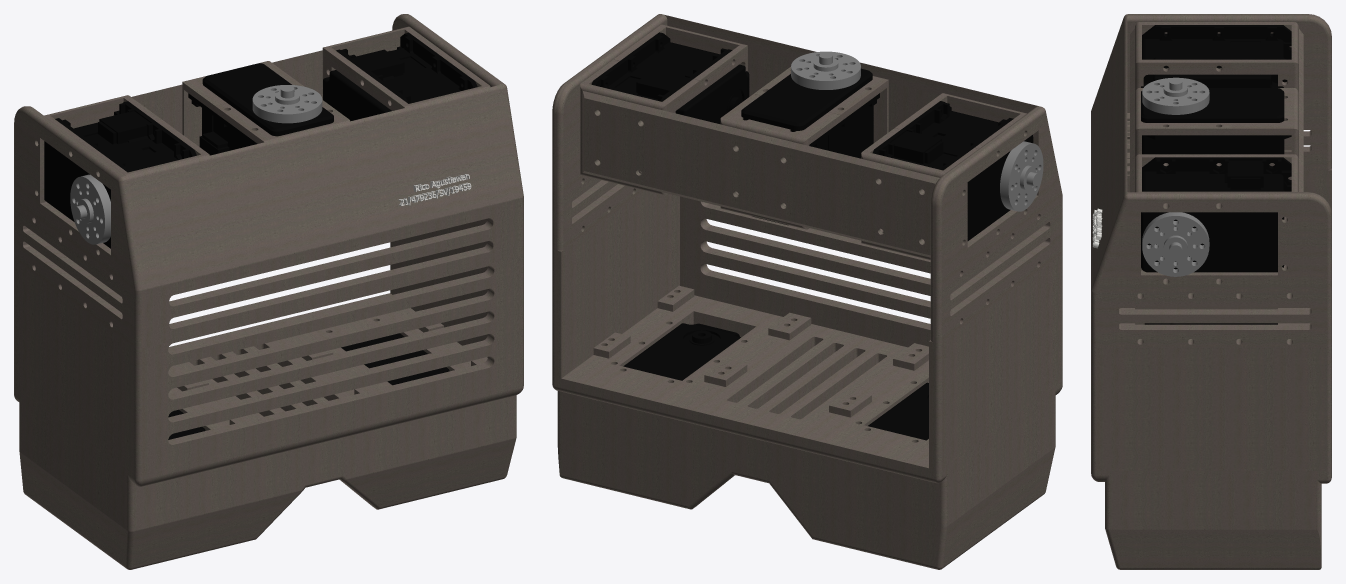
File: Body.obj
3 renders of one model, left to right at view 1: azimuth 30°, elevation 25°; view 2: azimuth 150°, elevation 25°; view 3: azimuth 270°, elevation 25°, orthographic. The views are drawn at different scales.
Visible parts, largest first — view 1: Solid1, Solid1:2, Solid1:1, Solid1:4, Solid1:5, Solid1:3, Solid7, Solid13, Solid12, Solid6, Solid9, Solid8 (+2 smaller); view 2: Solid1:1, Solid1:2, Solid7, Solid1, Solid1:4, Solid1:5, Solid1:3, Solid1:6, Solid11, Solid9, Solid12, Solid13 (+4 smaller); view 3: Solid1, Solid1:2, Solid1:1, Solid1:3, Solid1:5, Solid1:4, Solid5, Solid6, Solid8, Solid12, Solid11, Solid9 (+2 smaller).
Boxes of the visible parts, left/top/right/bottom form: Solid1: left=14, top=14, right=523, bottom=348; Solid1:2: left=14, top=223, right=523, bottom=475; Solid1:1: left=14, top=293, right=523, bottom=569; Solid1:4: left=44, top=101, right=196, bottom=248; Solid1:5: left=188, top=63, right=333, bottom=155; Solid1:3: left=323, top=32, right=477, bottom=121; Solid7: left=131, top=50, right=322, bottom=133; Solid13: left=322, top=26, right=441, bottom=99; Solid12: left=182, top=61, right=301, bottom=146; Solid6: left=44, top=95, right=160, bottom=139; Solid9: left=356, top=50, right=490, bottom=110; Solid8: left=215, top=85, right=349, bottom=143; Solid1:1: left=552, top=285, right=1062, bottom=569; Solid1:2: left=552, top=190, right=1062, bottom=469; Solid7: left=582, top=91, right=939, bottom=257; Solid1: left=552, top=14, right=1062, bottom=342; Solid1:4: left=872, top=101, right=1043, bottom=240; Solid1:5: left=741, top=51, right=879, bottom=225; Solid1:3: left=591, top=32, right=749, bottom=124; Solid1:6: left=623, top=323, right=740, bottom=380; Solid11: left=748, top=48, right=939, bottom=131; Solid9: left=613, top=24, right=747, bottom=92; Solid12: left=720, top=94, right=840, bottom=229; Solid13: left=580, top=59, right=699, bottom=195; Solid1: left=1091, top=14, right=1331, bottom=348; Solid1:2: left=1091, top=168, right=1331, bottom=470; Solid1:1: left=1091, top=293, right=1331, bottom=569; Solid1:3: left=1141, top=157, right=1291, bottom=276; Solid1:5: left=1141, top=77, right=1291, bottom=154; Solid1:4: left=1141, top=25, right=1291, bottom=87; Solid5: left=1135, top=22, right=1231, bottom=91; Solid6: left=1231, top=22, right=1298, bottom=150; Solid8: left=1135, top=88, right=1231, bottom=157; Solid12: left=1231, top=88, right=1298, bottom=159; Solid11: left=1127, top=28, right=1134, bottom=192; Solid9: left=1135, top=154, right=1231, bottom=279.
Size of the model in its own units: 0.1946 by 0.1927 by 0.1.
4 materials, 1 textured.
